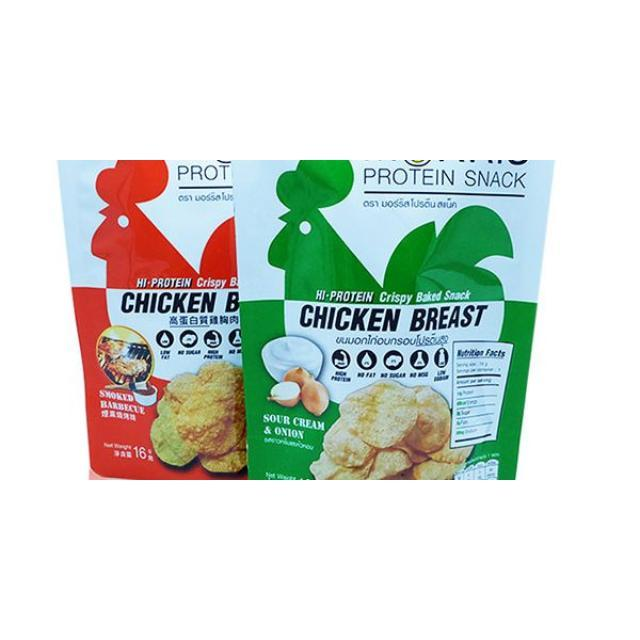Paquete de plastico: (235, 160, 552, 478)
